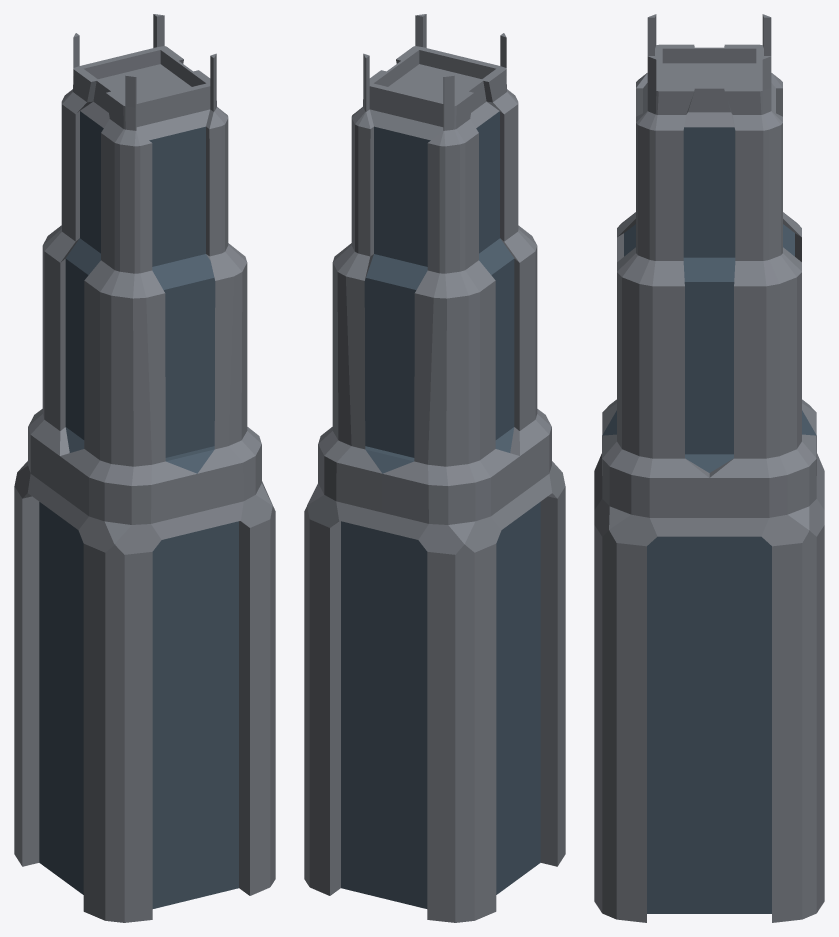
File: Gothic_Building.fbx
The picture shows the model from 3 angles, left to right: view 1: azimuth 30°, elevation 25°; view 2: azimuth 150°, elevation 25°; view 3: azimuth 270°, elevation 25°; orthographic projection. The views are drawn at different scales.
Visible parts, largest first — view 1: Cube.013; view 2: Cube.013; view 3: Cube.013.
Part boxes in pixels (x1,y1,x2,y2): Cube.013: (14, 14, 275, 922); Cube.013: (304, 14, 565, 922); Cube.013: (594, 14, 824, 922).
Size of the model in its own units: 703 by 2999 by 745.
